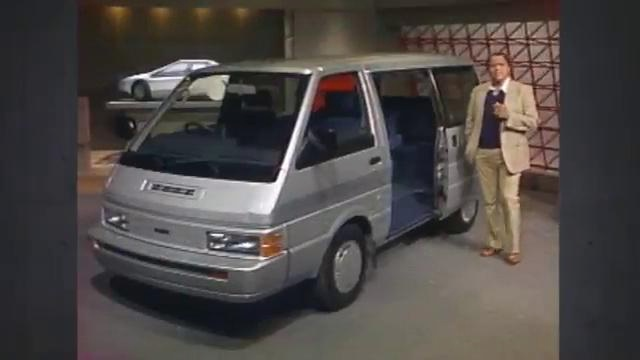van: (84, 47, 481, 326)
